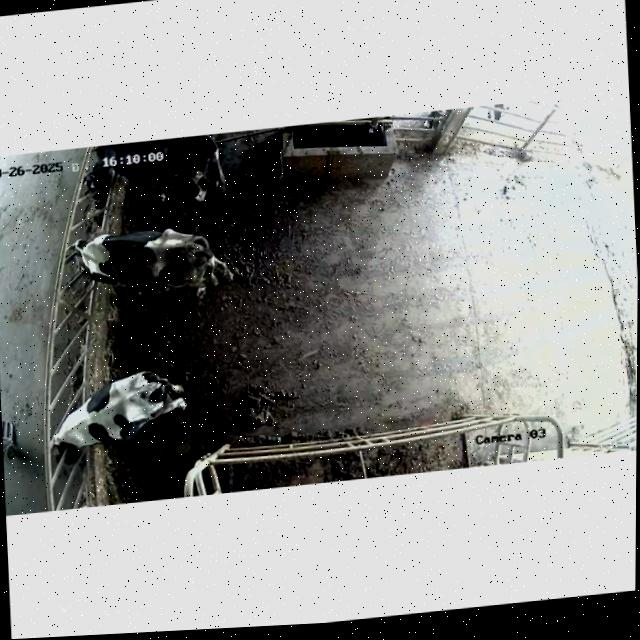eat: (49, 139, 169, 214), (26, 397, 124, 478), (45, 222, 146, 295)
